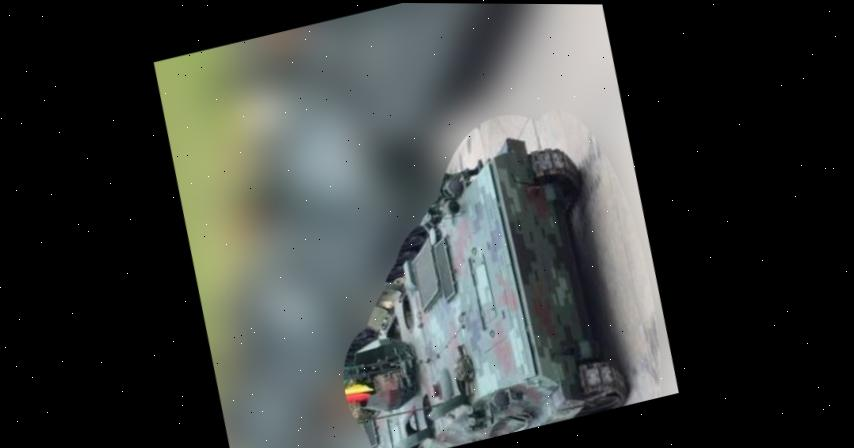armored_car: (292, 123, 653, 448)
